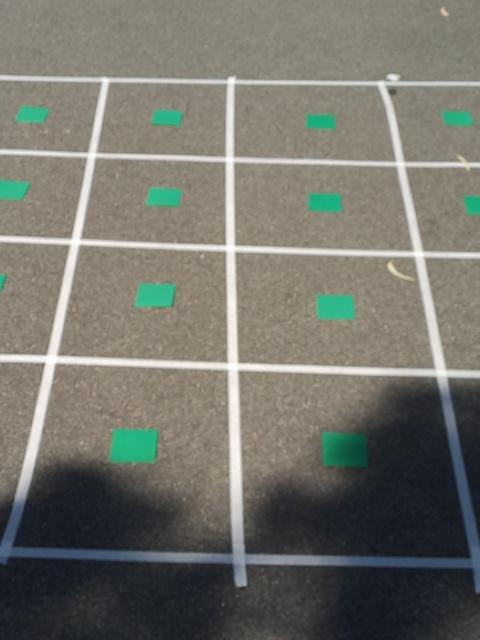weed: (321, 428, 370, 471), (110, 423, 158, 463), (312, 288, 357, 322), (133, 280, 177, 311), (143, 181, 183, 211), (307, 188, 343, 216), (0, 176, 31, 204), (152, 106, 187, 127), (443, 106, 474, 129), (16, 103, 51, 123), (304, 111, 337, 132), (462, 192, 480, 214)
